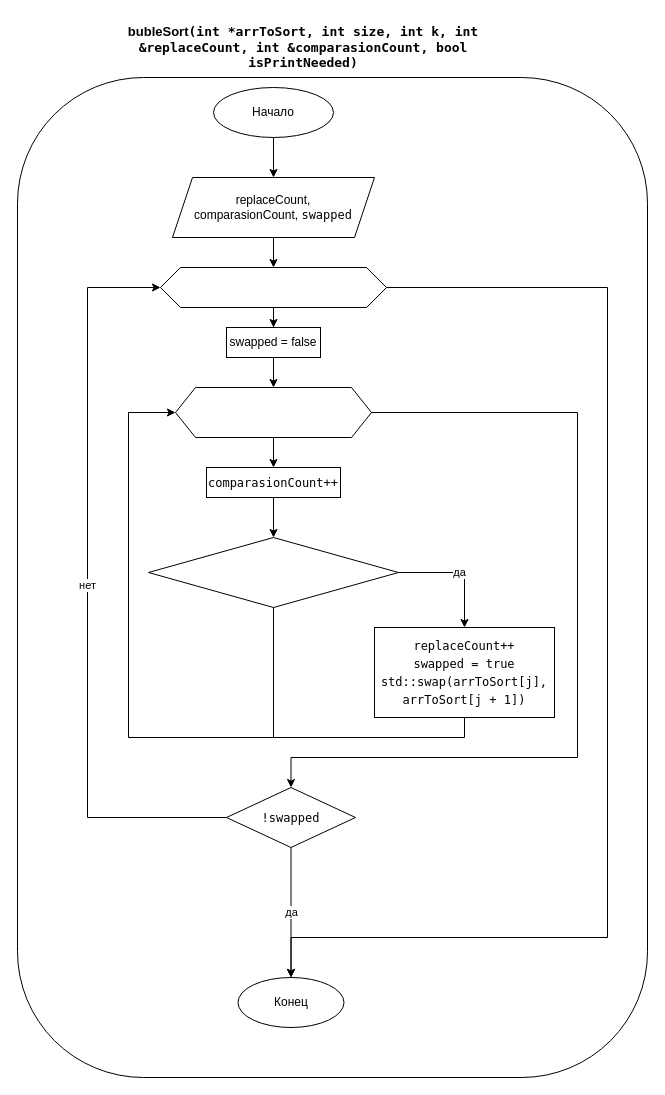
Some shapes in this 665 by 1095 pixel diagram are drawn without their labels. Here are the shapes that lost their labels. From the top down, the centre of each, then its label:
At point (273, 287): "i = 0 ; i < size - 1 ; i ++".
At point (273, 412): "j = 0 ; j < size - 1 - i; j ++".
At point (273, 572): "arrToSort[ j ] * k > arrToSort[ j + 1 ] * k".
